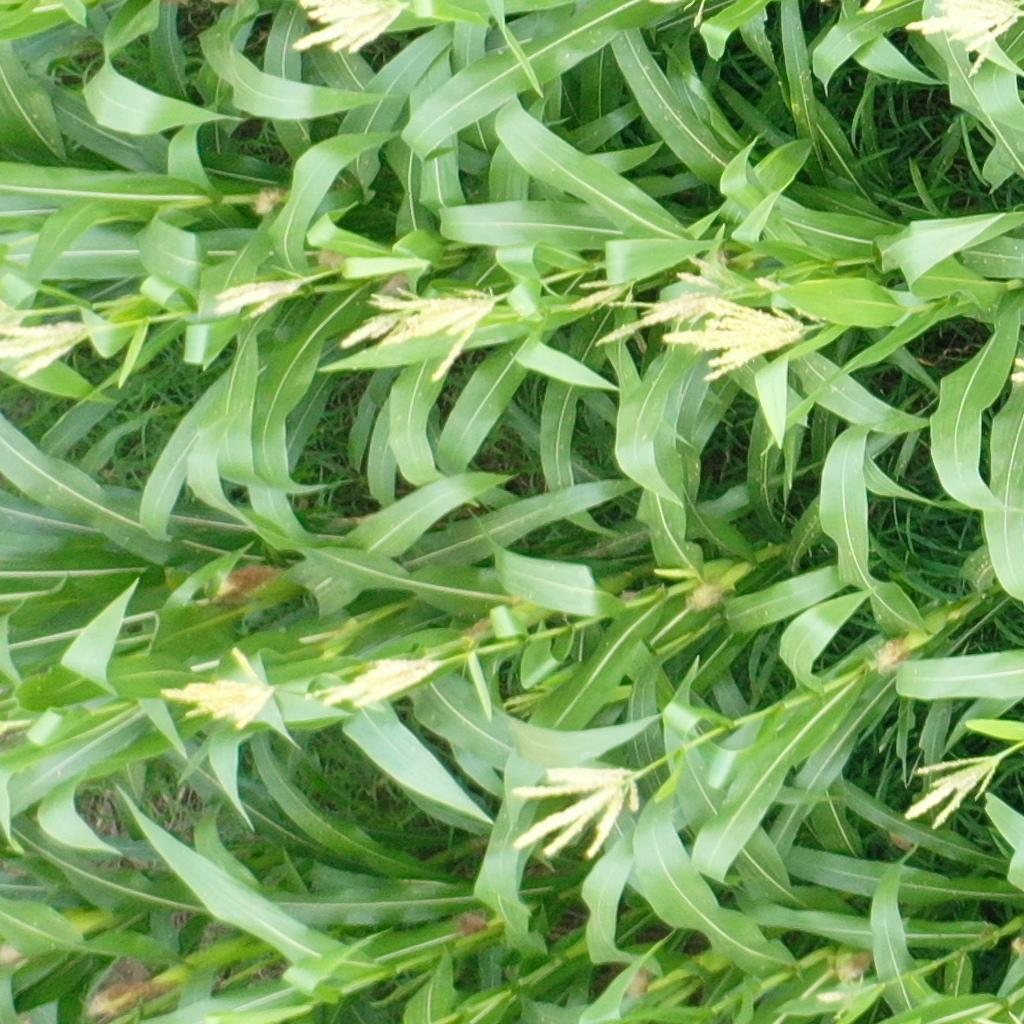Tassel: (659, 294, 823, 381), (505, 765, 642, 863), (380, 290, 506, 380), (160, 646, 279, 732), (906, 1, 1024, 79), (300, 650, 442, 710), (904, 750, 1005, 830), (294, 1, 413, 57), (1, 321, 102, 384), (337, 288, 422, 351), (596, 301, 704, 348), (215, 272, 308, 323), (674, 252, 740, 306), (816, 974, 879, 1020), (498, 681, 556, 719), (570, 281, 637, 313), (1, 298, 27, 340)
